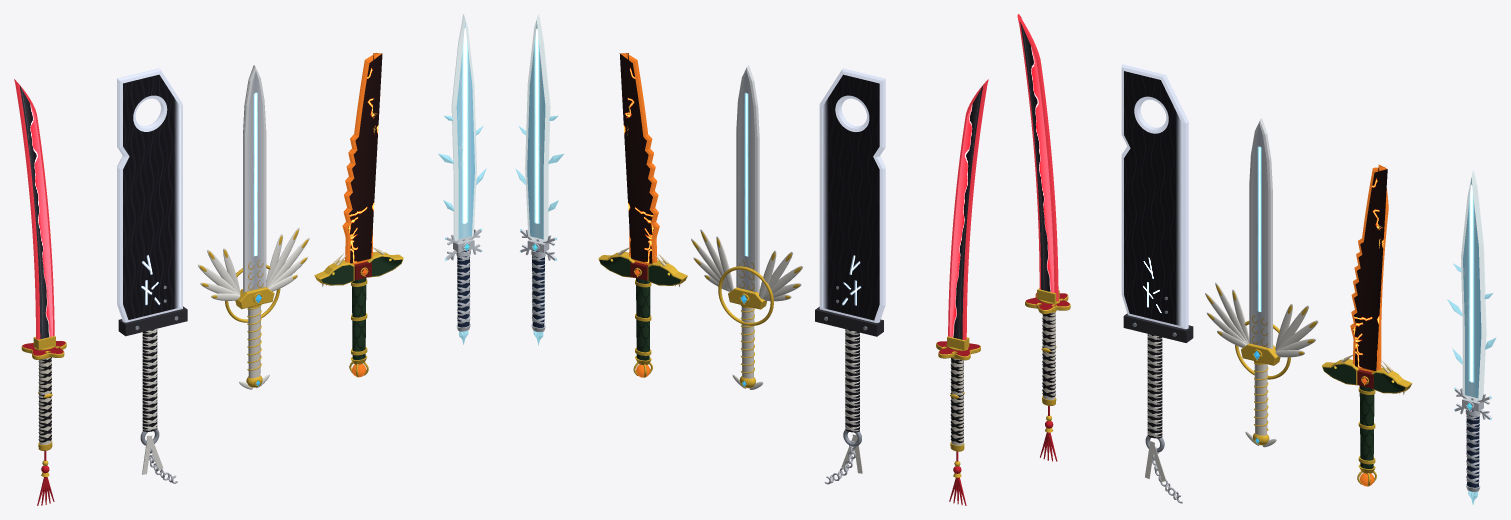
Rendered from Gamepass_Knives.glb.
3 renders of one model, left to right at view 1: azimuth 30°, elevation 25°; view 2: azimuth 150°, elevation 25°; view 3: azimuth 330°, elevation 25°, orthographic.
Visible parts, largest first — view 1: blade_0 (×5), handle_10, handle_34, collar_1, handle_35, handle_5, dragon_head_14, handle_43, dragon_head_24, guard_block_1; view 2: blade_0 (×5), handle_34, handle_10, collar_1, handle_35, handle_5, dragon_head_14, halo_34, handle_43, dragon_head_24; view 3: blade_0 (×5), handle_10, handle_34, collar_1, handle_35, handle_5, dragon_head_24, dragon_head_14, handle_43, guard_block_1.
Boxes of the visible parts, x1,y1,x2,y2 form: blade_0 (×5): (14,14,476,339); handle_10: (142,329,157,431); handle_34: (352,278,366,359); collar_1: (118,306,187,336); handle_35: (248,306,260,378); handle_5: (39,357,51,444); dragon_head_14: (314,260,354,285); handle_43: (457,250,469,327); dragon_head_24: (367,251,403,277); guard_block_1: (235,287,274,309); blade_0 (×5): (525,14,988,339); handle_34: (636,278,650,360); handle_10: (845,330,859,432); collar_1: (815,307,883,336); handle_35: (741,306,754,378); handle_5: (951,357,963,445); dragon_head_14: (647,260,687,285); halo_34: (718,266,773,325); handle_43: (532,250,544,327); dragon_head_24: (598,252,634,277); blade_0 (×5): (1017,14,1486,400); handle_10: (1147,334,1162,438); handle_34: (1359,386,1374,468); collar_1: (1123,313,1193,342); handle_35: (1254,363,1267,435); handle_5: (1042,312,1055,399); dragon_head_24: (1371,367,1412,393); dragon_head_14: (1322,359,1358,385); handle_43: (1466,409,1479,487); guard_block_1: (1241,343,1280,365).
Size of the model in its own units: 1.44 by 1.3 by 0.1211.
Materials: 42 (42 with a texture image).
